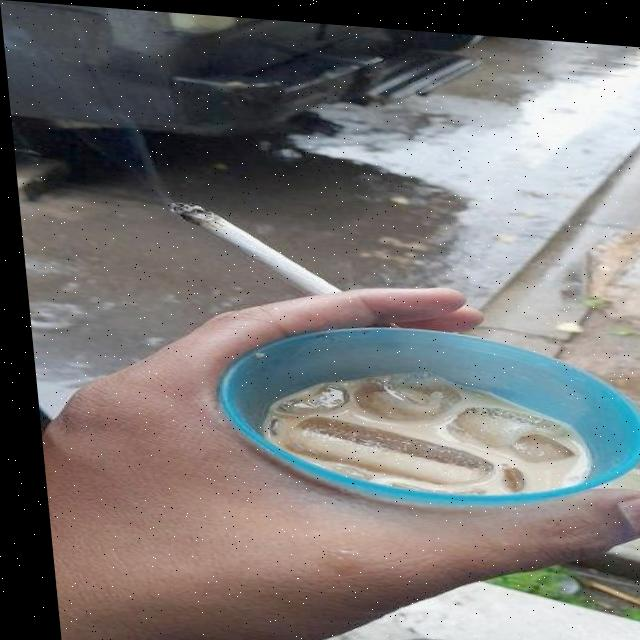cigarette: (167, 196, 338, 291)
